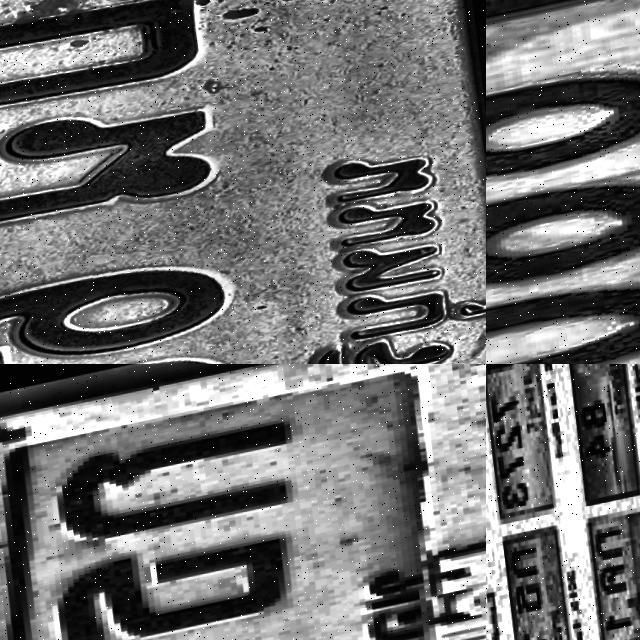license-plate: (0, 0, 486, 364), (0, 364, 486, 640), (486, 0, 640, 364), (550, 364, 640, 525), (486, 364, 562, 535), (495, 527, 580, 640), (575, 505, 640, 640)
